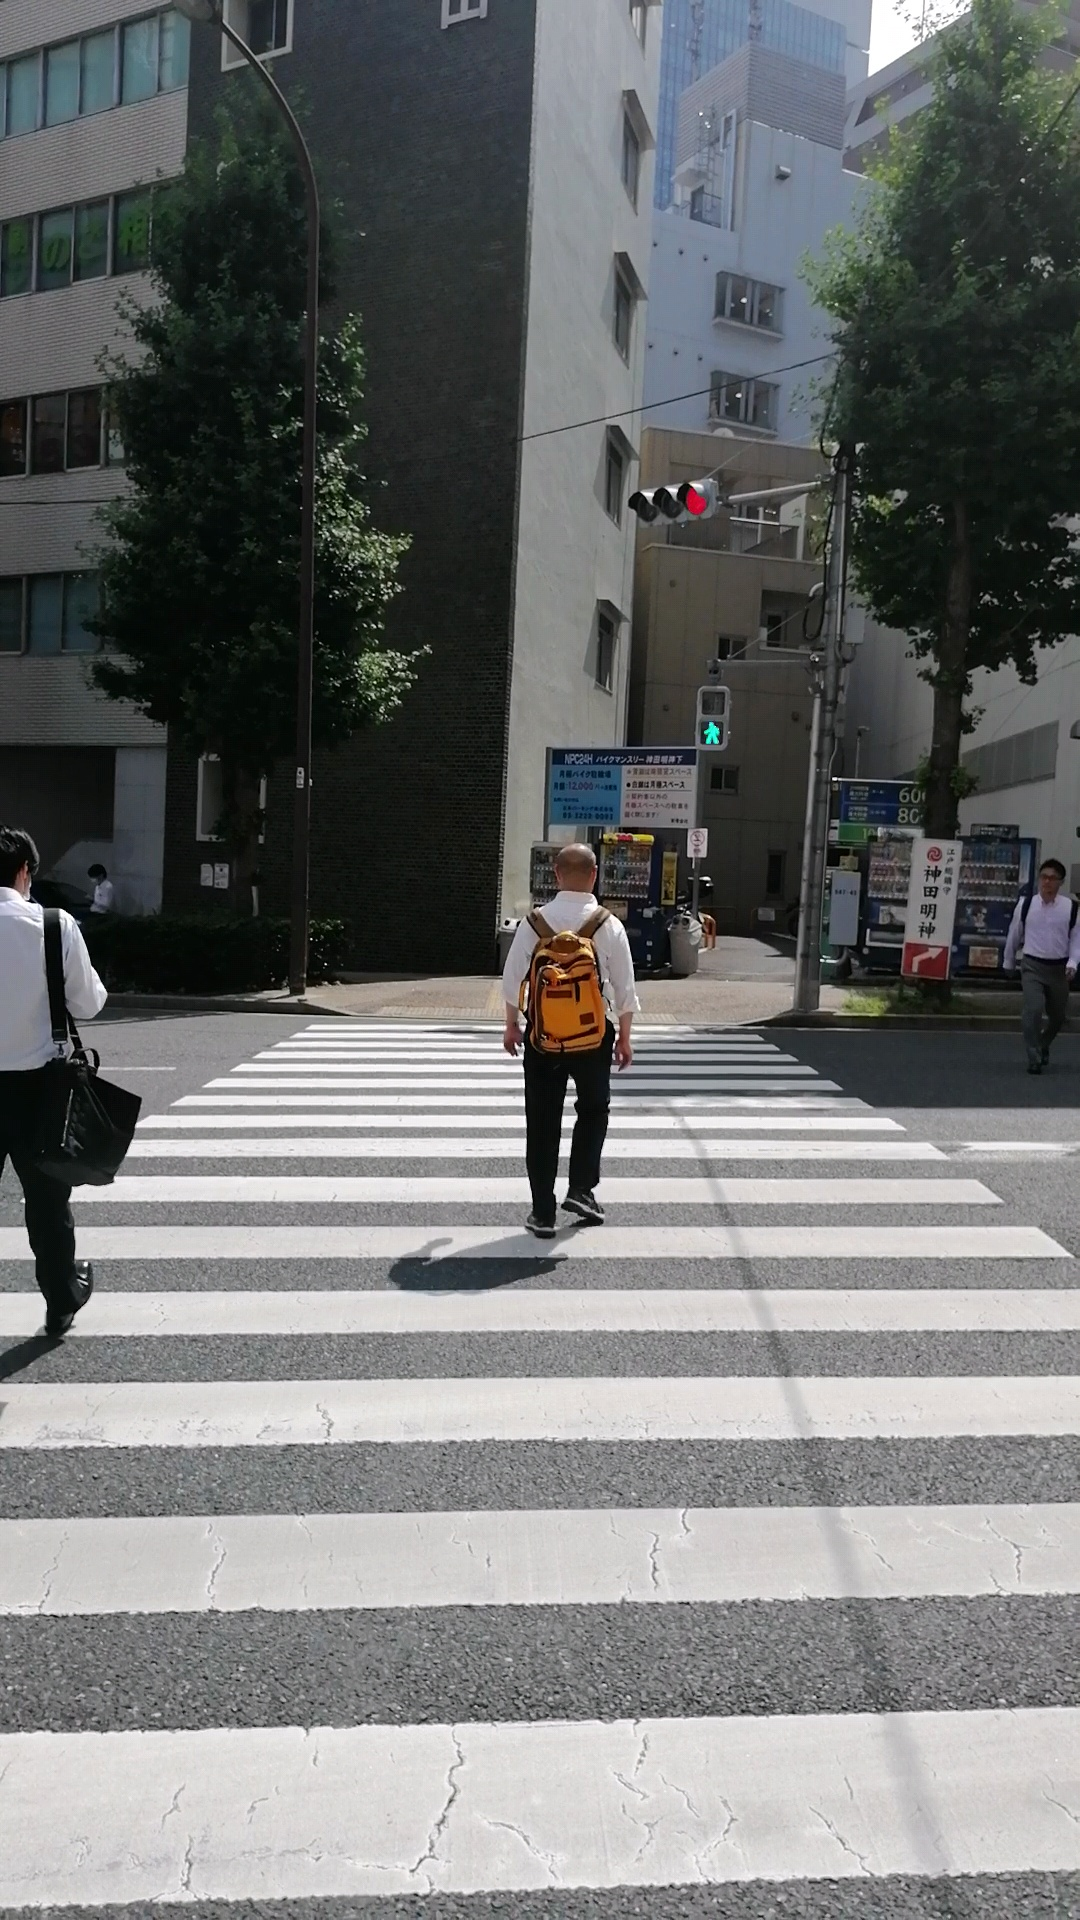green: (692, 683, 731, 752)
